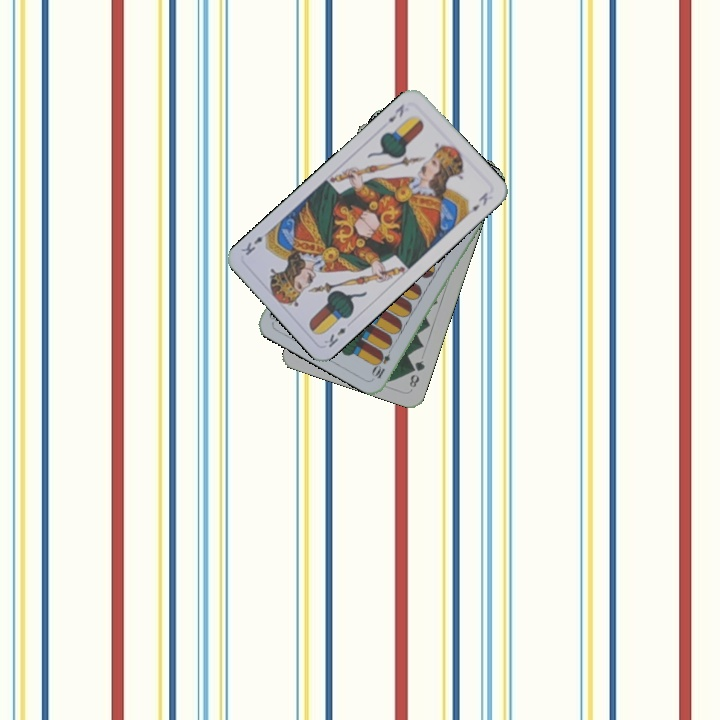E10: (369, 342, 395, 381)
EK: (320, 323, 348, 350), (384, 100, 407, 125)
G8: (405, 356, 427, 390)
